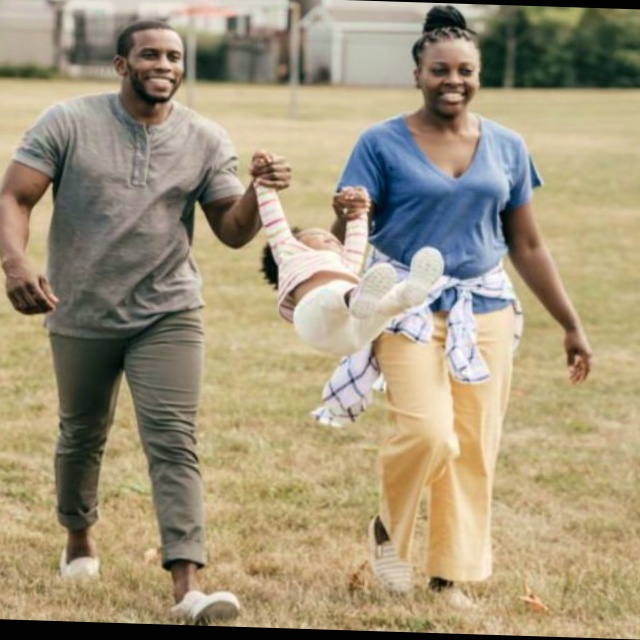Sin_Casco_Mascarrilla: (410, 22, 490, 120), (109, 21, 187, 105)
Sin_Chaleco: (41, 93, 222, 327), (360, 113, 534, 270)
